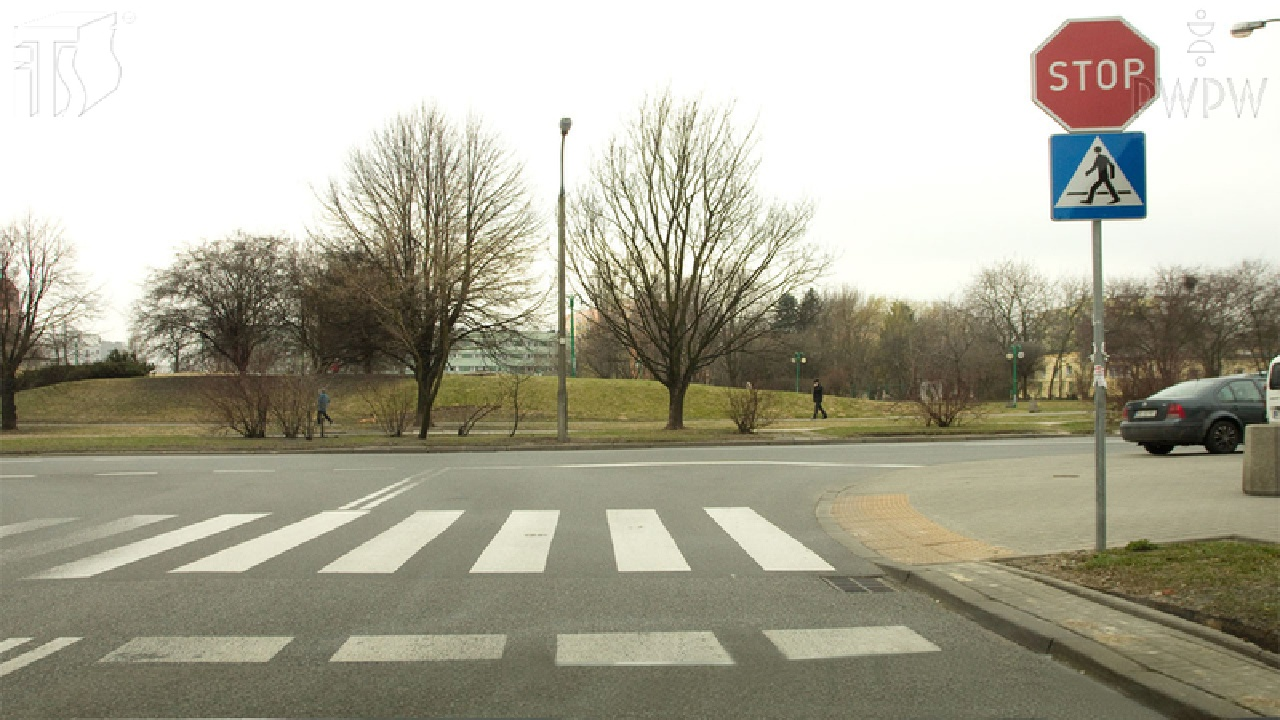B20: (1029, 17, 1162, 131)
D6: (1046, 133, 1149, 221)
